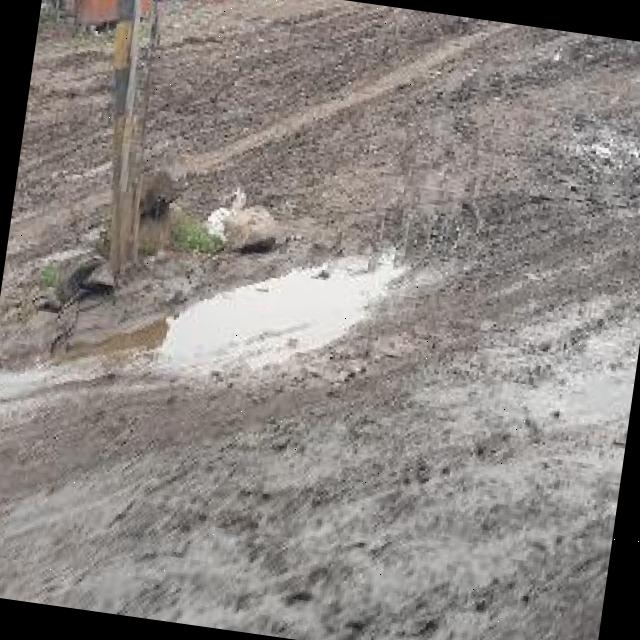stagnation: (143, 198, 427, 424)
